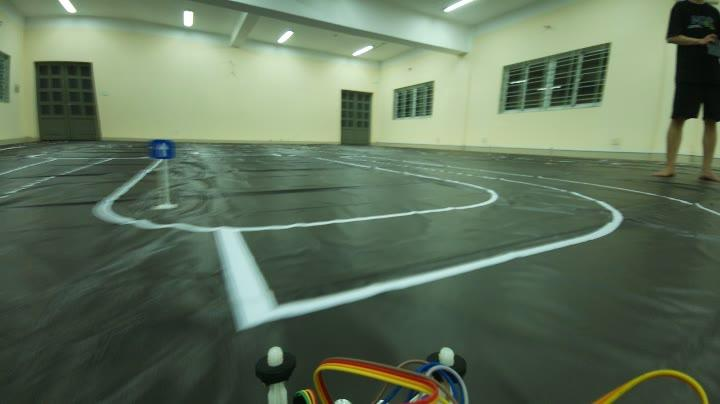onewayroad: (151, 134, 180, 167)
